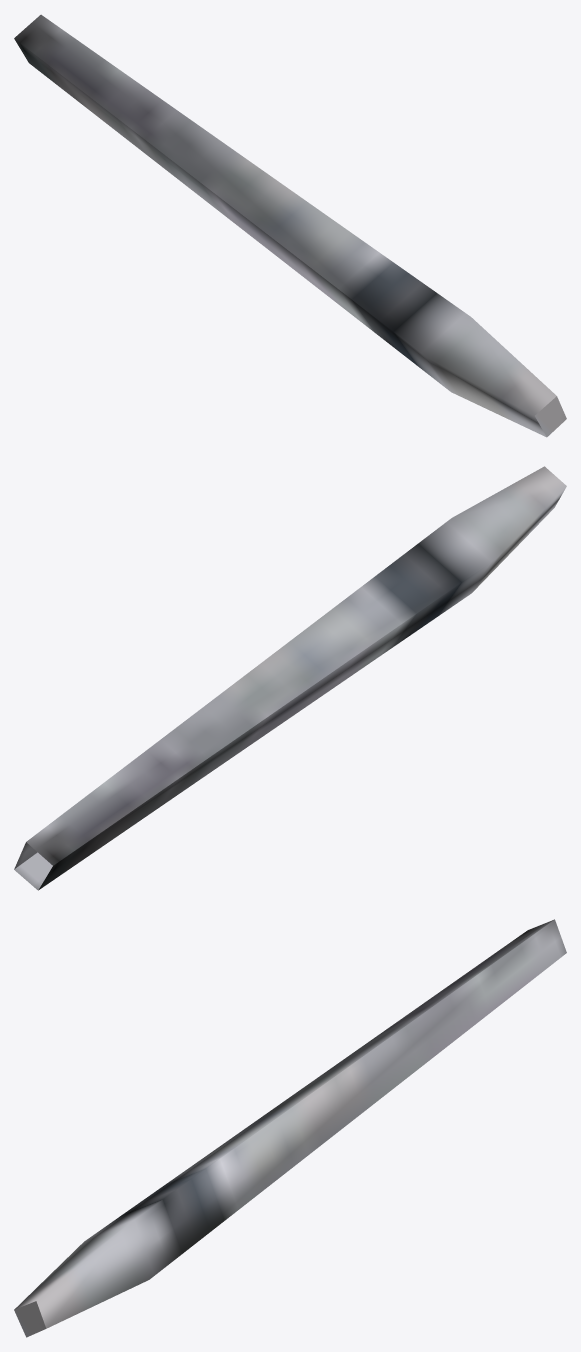
Rendered from spacestation_turret_barrel01_s01_l2.fbx.
3 renders of one model, top to bottom at view 1: azimuth 30°, elevation 25°; view 2: azimuth 150°, elevation 25°; view 3: azimuth 330°, elevation 25°, orthographic.
Visible parts, largest first — view 1: mesh_node; view 2: mesh_node; view 3: mesh_node.
Boxes of the visible parts, x1,y1,x2,y2 form: mesh_node: (14,14,566,437); mesh_node: (14,466,566,890); mesh_node: (14,919,566,1337).
Bounding box in the file's own units: 0.4254 × 0.4376 × 5.84.
